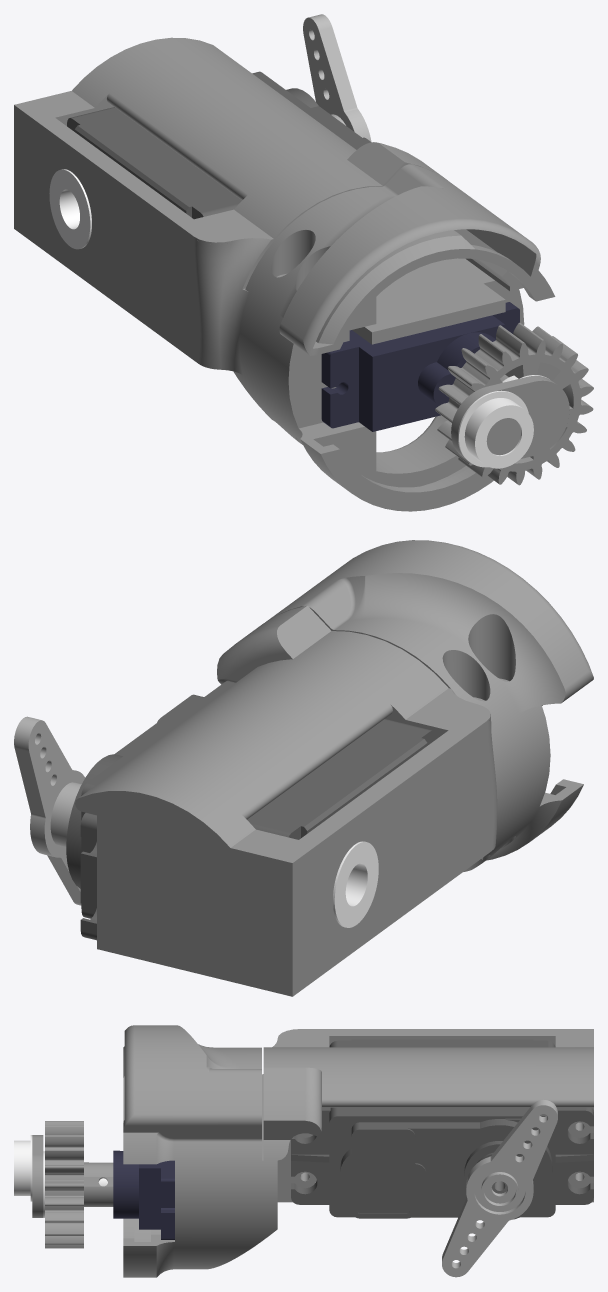
The model's file is Assy_wrist_back.dae.
The picture shows the model from 3 angles, top to bottom: view 1: azimuth 30°, elevation 25°; view 2: azimuth 150°, elevation 25°; view 3: azimuth 270°, elevation 25°; orthographic projection. The views are drawn at different scales.
Visible parts, largest first — view 1: Assy_wrist_back; view 2: Assy_wrist_back; view 3: Assy_wrist_back.
Part boxes in pixels (box(x1,y1,x2,y2)): Assy_wrist_back: box(14, 14, 593, 511); Assy_wrist_back: box(14, 540, 593, 996); Assy_wrist_back: box(14, 1025, 593, 1277).
Size of the model in its own units: 0.0479 by 0.1045 by 0.0455.
